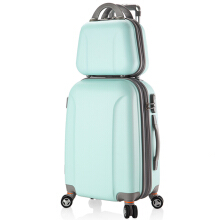luggage: (60, 3, 163, 218)
